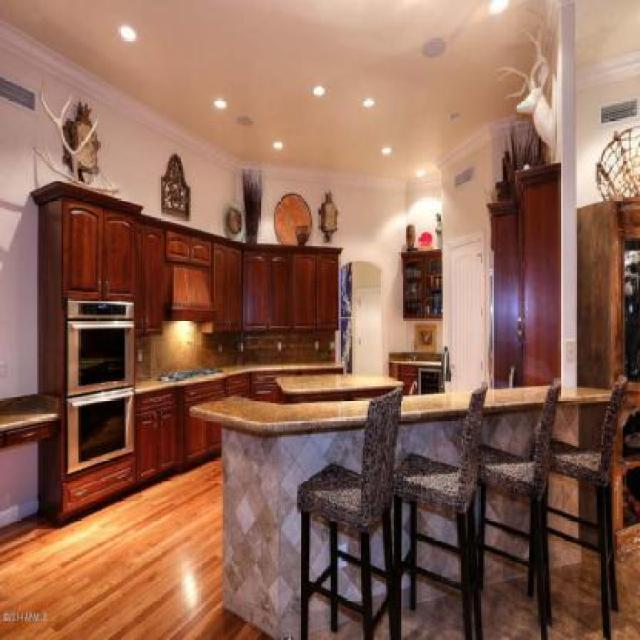floor: (0, 454, 275, 636)
